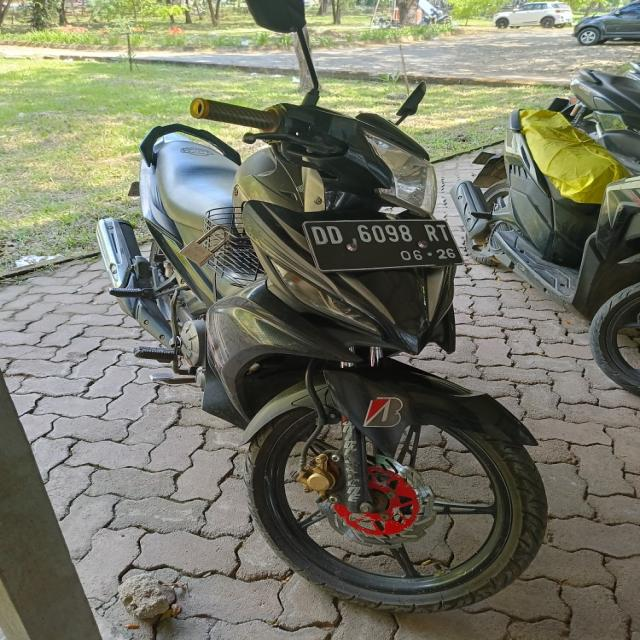plates: (305, 214, 472, 276)
